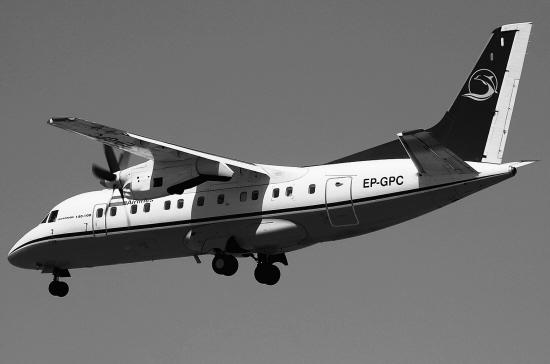airplane: (5, 23, 550, 300)
